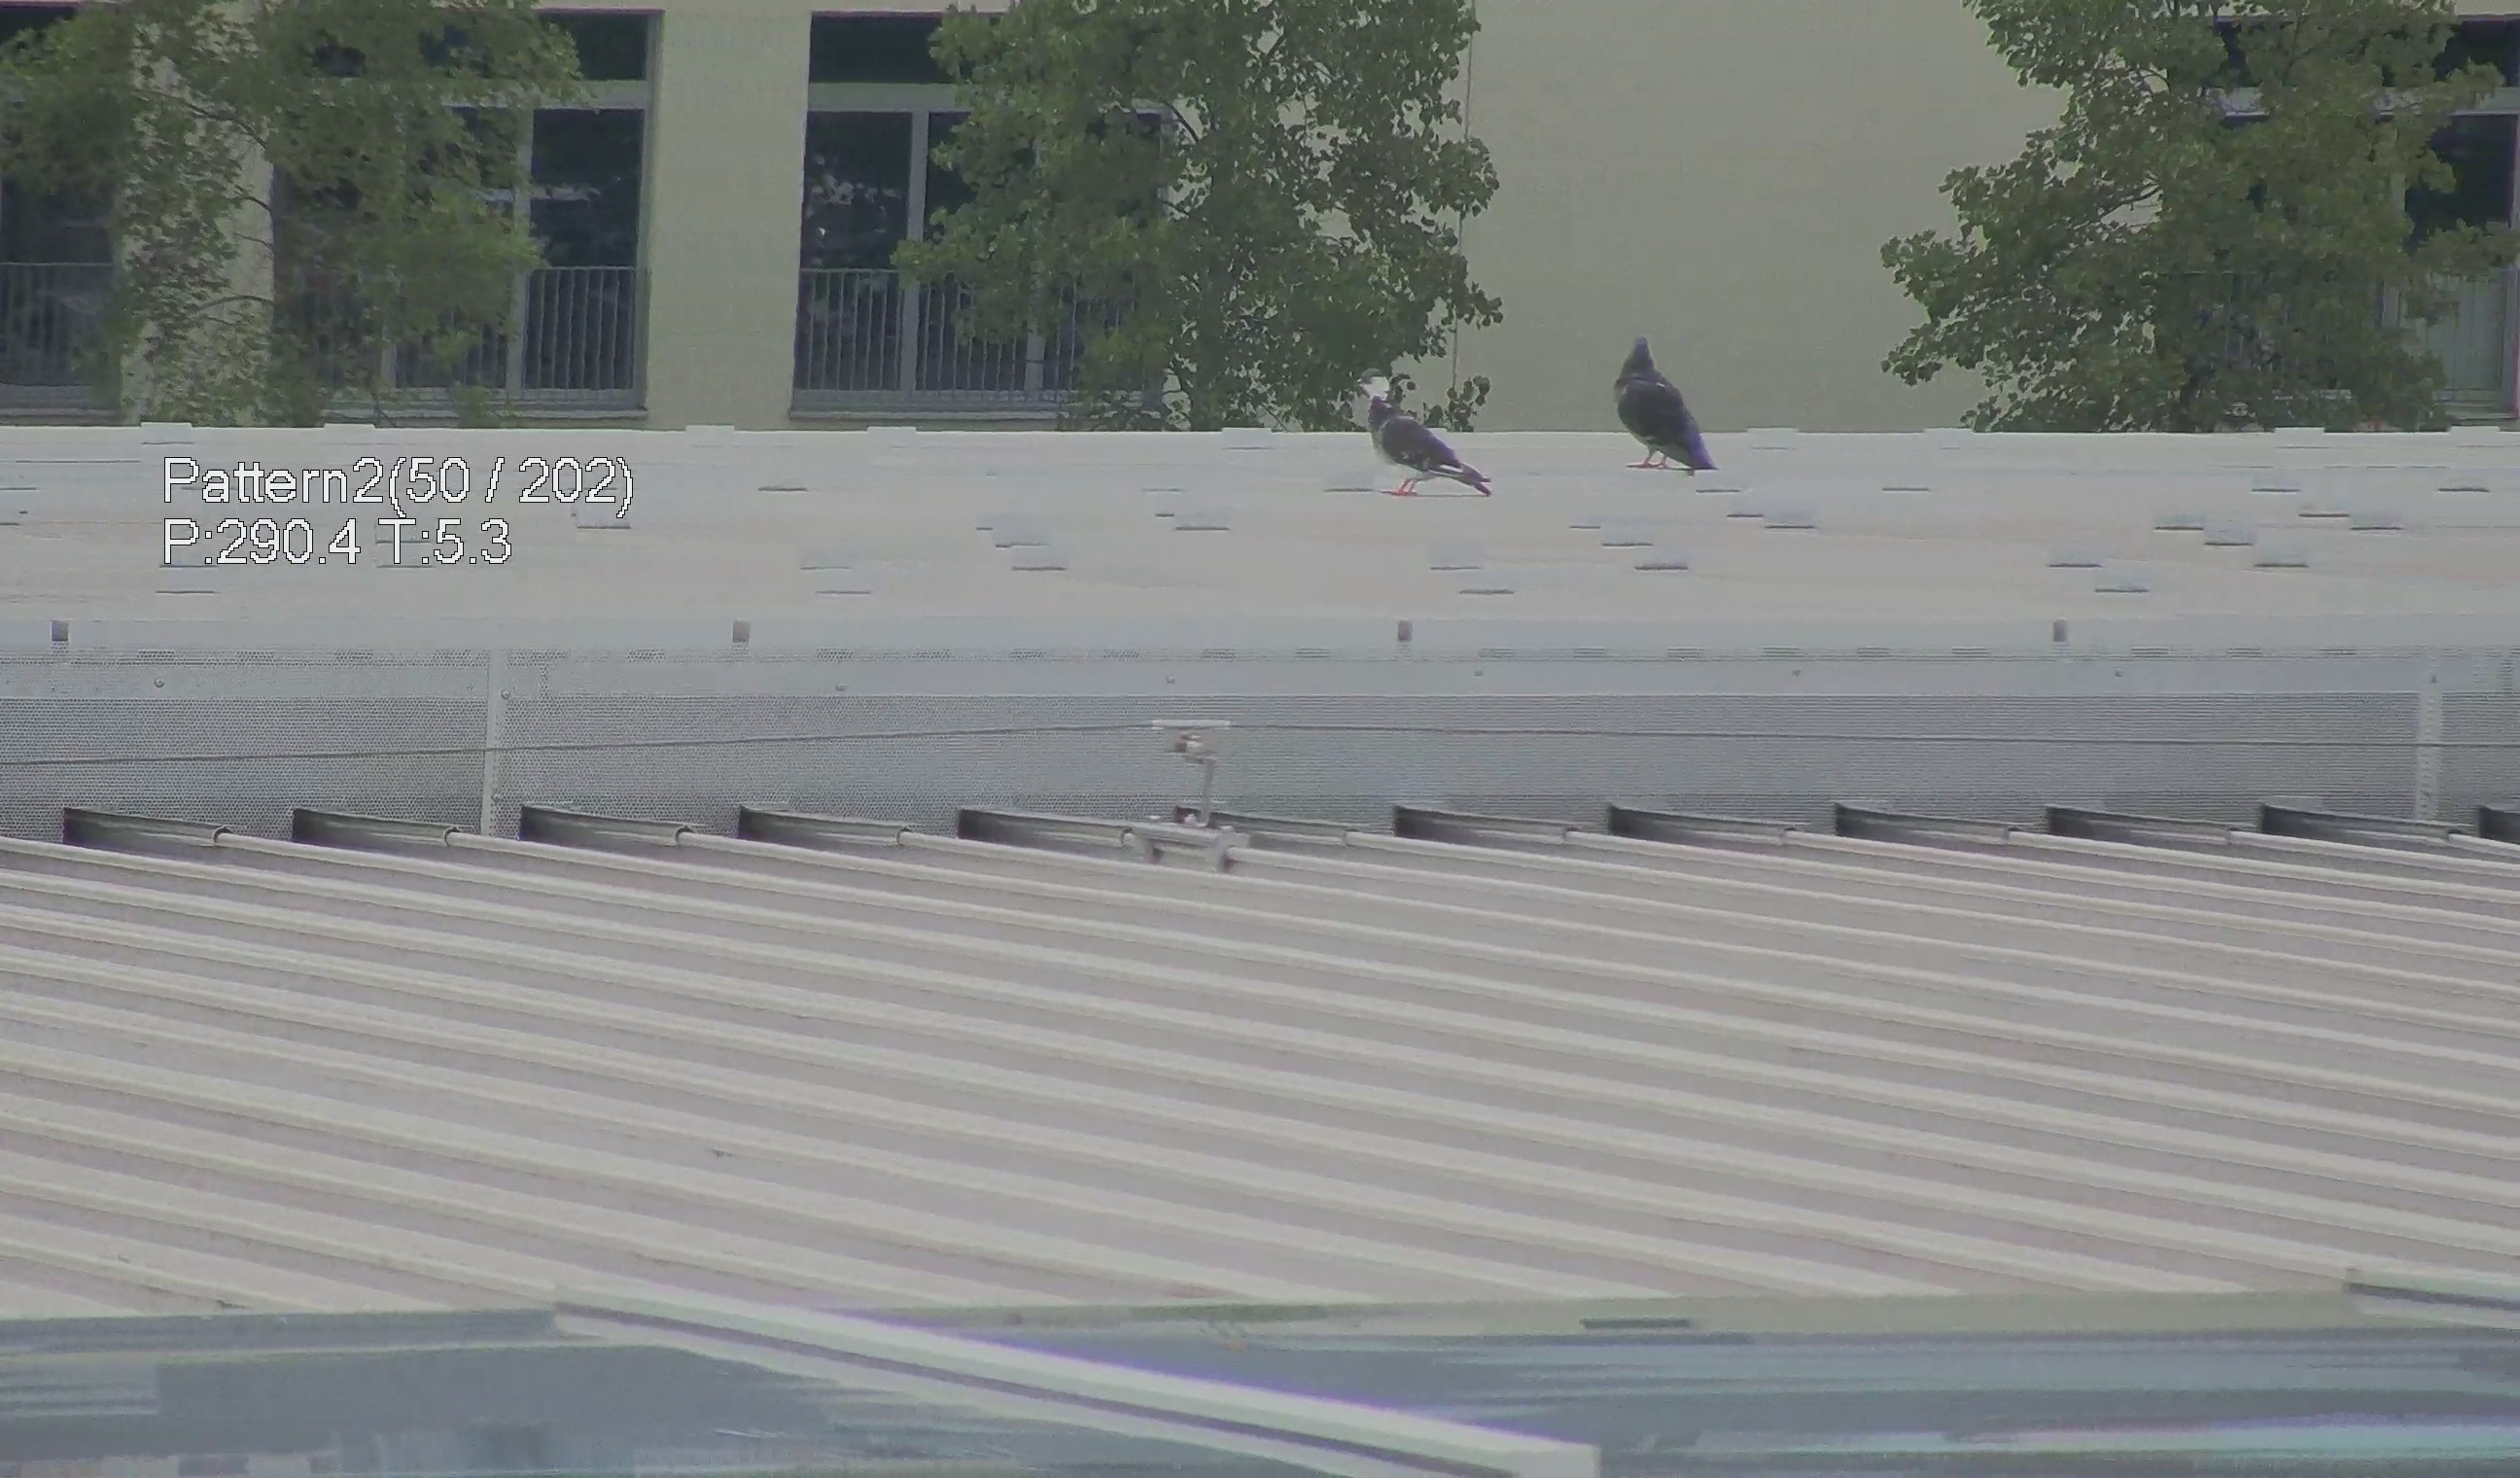Pigeon: (1609, 318, 1727, 484), (1365, 375, 1497, 503)
